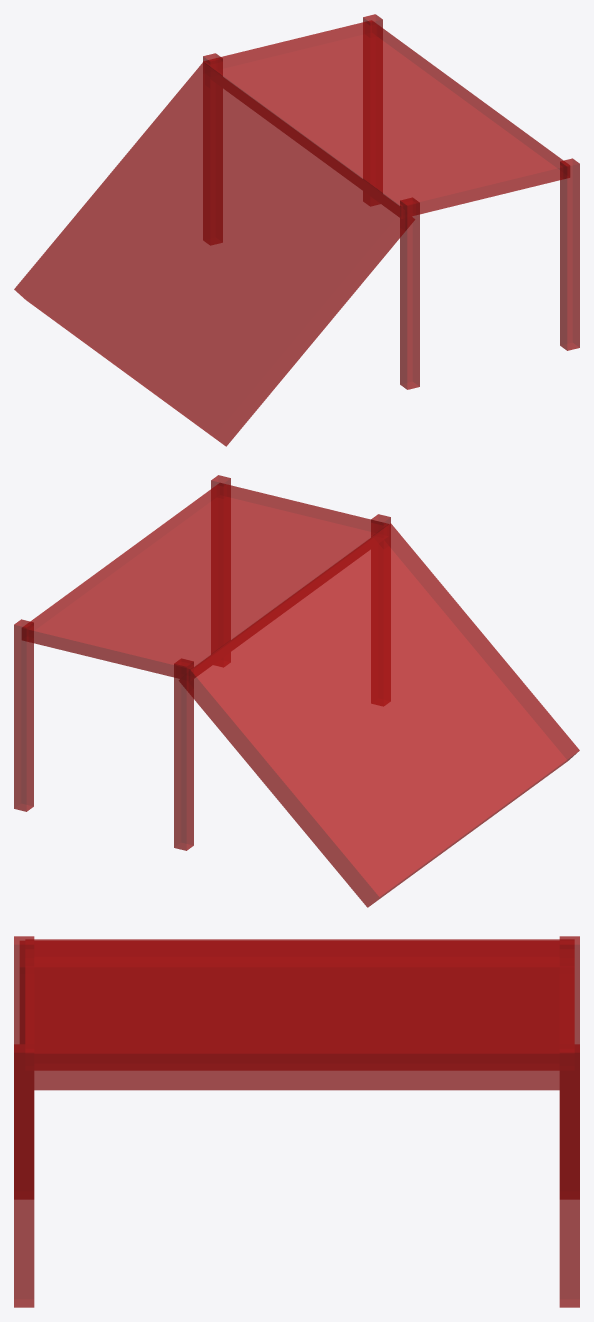
The model's file is SM_Bld_Stairs_Wood_Wide_02_Collision.fbx.
The picture shows the model from 3 angles, top to bottom: view 1: azimuth 30°, elevation 25°; view 2: azimuth 150°, elevation 25°; view 3: azimuth 270°, elevation 25°; orthographic projection. The views are drawn at different scales.
Parts seen in each view (by area): view 1: SM_Bld_Stairs_Wood_Wide_02_Collision; view 2: SM_Bld_Stairs_Wood_Wide_02_Collision; view 3: SM_Bld_Stairs_Wood_Wide_02_Collision.
Part boxes in pixels (x1,y1,x2,y2): SM_Bld_Stairs_Wood_Wide_02_Collision: (14, 14, 579, 446); SM_Bld_Stairs_Wood_Wide_02_Collision: (14, 475, 579, 907); SM_Bld_Stairs_Wood_Wide_02_Collision: (14, 936, 579, 1307).
Size of the model in its own units: 533 by 278 by 519.
